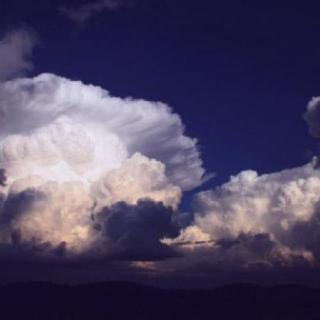Cumulonimbus: (0, 0, 320, 312)
